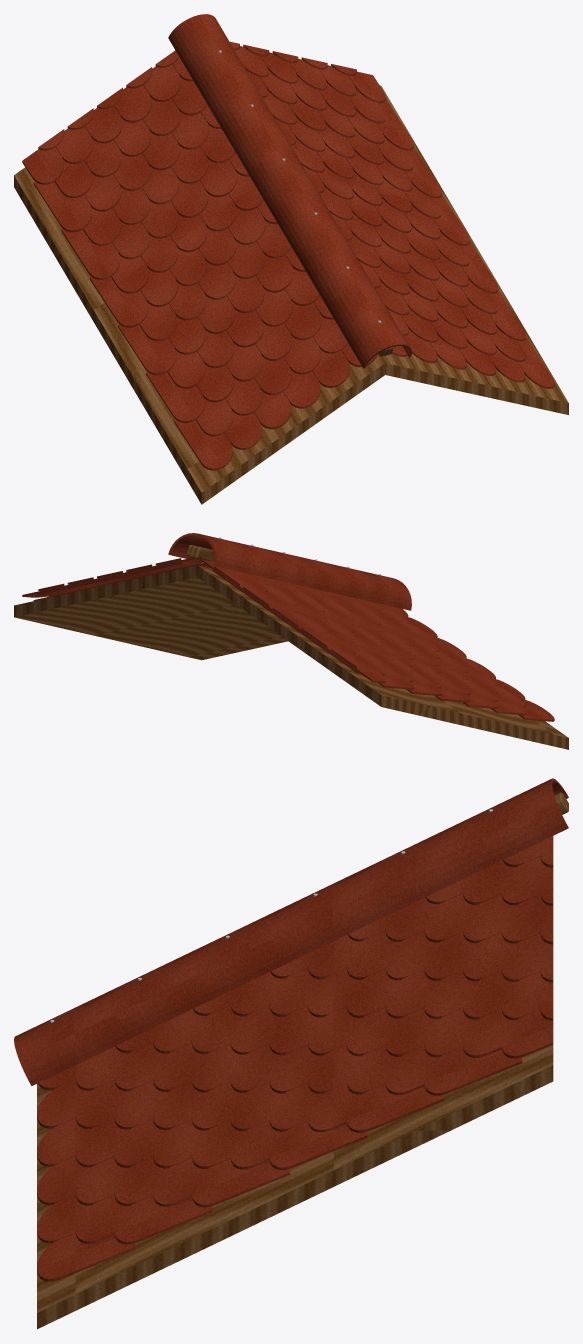
The model's file is modell.glb.
3 views of the same model, one above another, from view 1: azimuth 30°, elevation 25°; view 2: azimuth 150°, elevation 25°; view 3: azimuth 270°, elevation 25° (orthographic). The views are drawn at different scales.
Parts seen in each view (by area): view 1: w01-ziegel_deckung, w01-gratziegel_deckung, w01-walmflaeche_tragwerk; view 2: w01-walmflaeche_tragwerk, w01-ziegel_deckung, w01-gratziegel_deckung, w01-gratlatte_lattung; view 3: w01-ziegel_deckung, w01-gratziegel_deckung, w01-walmflaeche_tragwerk.
Part boxes in pixels (x1,y1,x2,y2): w01-ziegel_deckung: (22,41,554,470); w01-gratziegel_deckung: (168,14,411,368); w01-walmflaeche_tragwerk: (14,85,568,504); w01-walmflaeche_tragwerk: (14,565,568,749); w01-ziegel_deckung: (22,558,554,721); w01-gratziegel_deckung: (168,533,411,610); w01-gratlatte_lattung: (186,545,214,561); w01-ziegel_deckung: (37,836,553,1281); w01-gratziegel_deckung: (14,778,568,1085); w01-walmflaeche_tragwerk: (37,1045,553,1329).
Bounding box in the file's own units: 2.26 × 1.81 × 2.15.
Materials: 3 (2 with a texture image).
